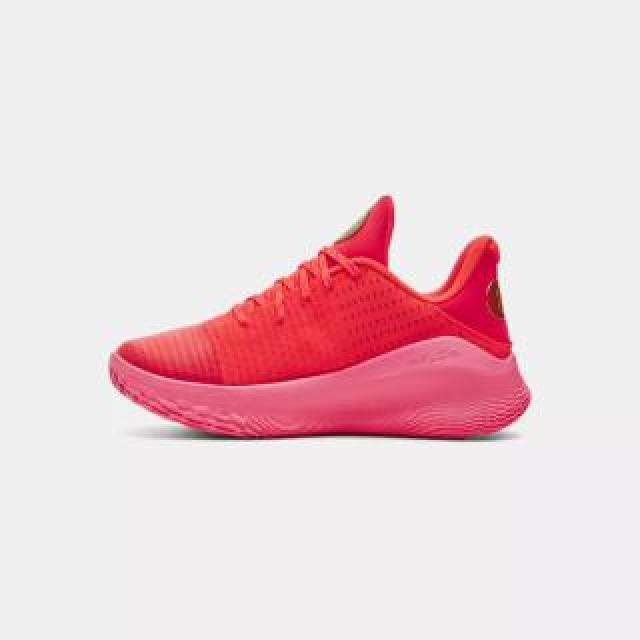shoe: (109, 195, 531, 441)
